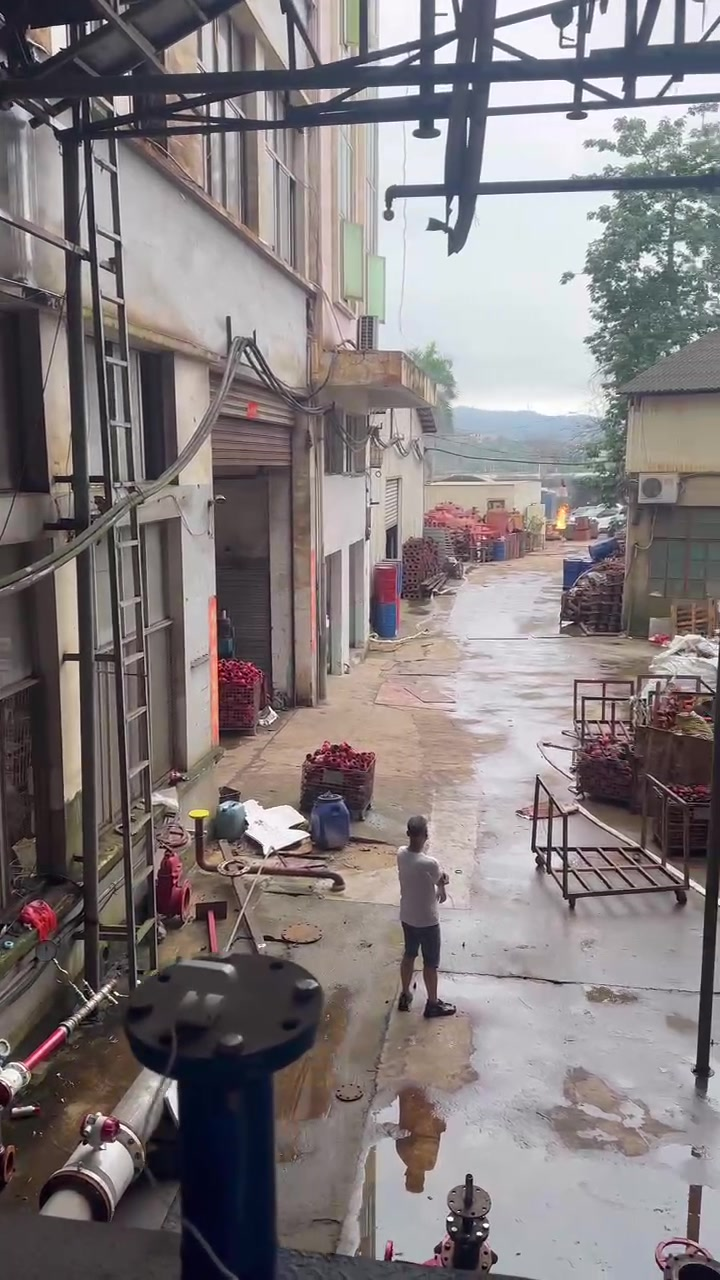fire: (555, 503, 569, 528)
